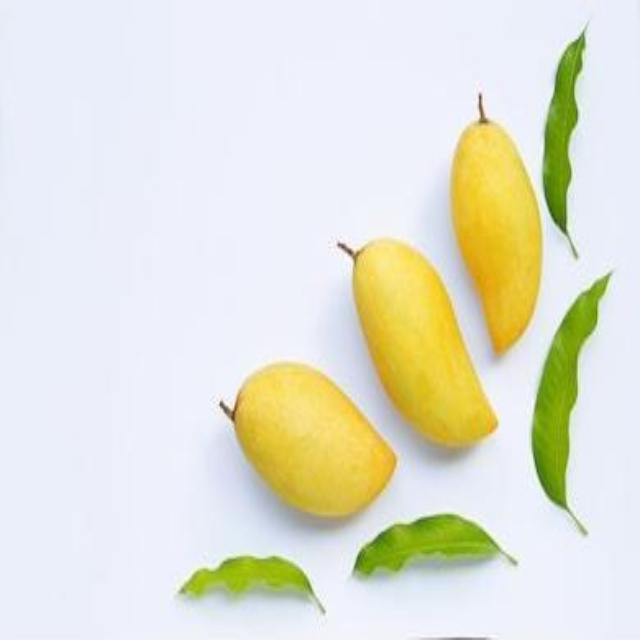mango: (343, 238, 499, 456), (452, 115, 554, 355), (234, 370, 388, 518)
